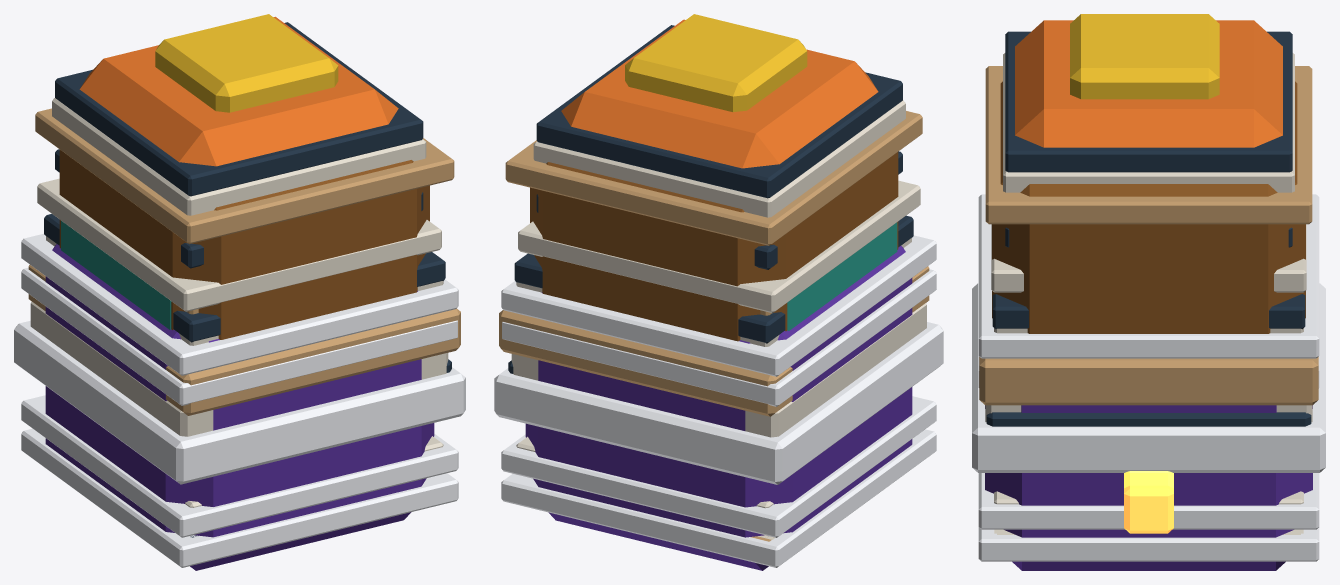
Rendered from flagship_props_005.glb.
3 views of the same model, side by side, from view 1: azimuth 30°, elevation 25°; view 2: azimuth 150°, elevation 25°; view 3: azimuth 270°, elevation 25° (orthographic). The views are drawn at different scales.
Parts seen in each view (by area): view 1: Prop_BBIsle_Barrel_10, Prop_BBIsle_Barrel_14, Prop_BBIsle_Barrel_16, Prop_BBIsle_Barrel_08, Prop_BBIsle_Beehive_00, Prop_BBIsle_Barrel_13, Prop_BBIsle_Barrel_11, Prop_BBIsle_Barrel_18; view 2: Prop_BBIsle_Barrel_10, Prop_BBIsle_Barrel_14, Prop_BBIsle_Barrel_16, Prop_BBIsle_Barrel_08, Prop_BBIsle_Beehive_00, Prop_BBIsle_Barrel_13, Prop_BBIsle_Barrel_11, Prop_BBIsle_Barrel_18; view 3: Prop_BBIsle_Barrel_10, Prop_BBIsle_Barrel_14, Prop_BBIsle_Barrel_16, Prop_BBIsle_Beehive_00, Prop_BBIsle_Barrel_11, Prop_BBIsle_Barrel_13, Prop_BBIsle_Barrel_08, Prop_BBIsle_Barrel_18.
Boxes of the visible parts, bbox=[...] form: Prop_BBIsle_Barrel_10: bbox=[14, 233, 465, 570]; Prop_BBIsle_Barrel_14: bbox=[28, 108, 460, 415]; Prop_BBIsle_Barrel_16: bbox=[55, 16, 423, 268]; Prop_BBIsle_Barrel_08: bbox=[30, 178, 448, 436]; Prop_BBIsle_Beehive_00: bbox=[155, 14, 338, 112]; Prop_BBIsle_Barrel_13: bbox=[52, 98, 426, 215]; Prop_BBIsle_Barrel_11: bbox=[44, 214, 451, 537]; Prop_BBIsle_Barrel_18: bbox=[46, 236, 443, 507]; Prop_BBIsle_Barrel_10: bbox=[494, 235, 943, 570]; Prop_BBIsle_Barrel_14: bbox=[499, 111, 929, 541]; Prop_BBIsle_Barrel_16: bbox=[536, 19, 902, 269]; Prop_BBIsle_Barrel_08: bbox=[511, 180, 926, 539]; Prop_BBIsle_Beehive_00: bbox=[625, 14, 807, 112]; Prop_BBIsle_Barrel_13: bbox=[533, 100, 905, 217]; Prop_BBIsle_Barrel_11: bbox=[508, 215, 913, 373]; Prop_BBIsle_Barrel_18: bbox=[516, 238, 911, 508]; Prop_BBIsle_Barrel_10: bbox=[972, 194, 1325, 570]; Prop_BBIsle_Barrel_14: bbox=[979, 66, 1318, 405]; Prop_BBIsle_Barrel_16: bbox=[1005, 20, 1292, 247]; Prop_BBIsle_Beehive_00: bbox=[1070, 14, 1219, 99]; Prop_BBIsle_Barrel_11: bbox=[986, 294, 1311, 426]; Prop_BBIsle_Barrel_13: bbox=[1003, 53, 1294, 192]; Prop_BBIsle_Barrel_08: bbox=[985, 224, 1312, 533]; Prop_BBIsle_Barrel_18: bbox=[994, 328, 1303, 534].
Size of the model in its own units: 0.8791 by 1.27 by 0.8506.
